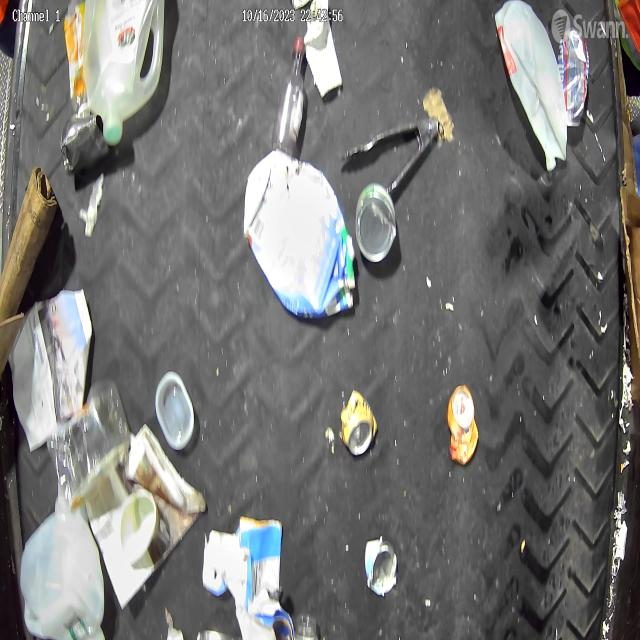can: (354, 182, 398, 264), (558, 26, 590, 127), (60, 113, 109, 175), (447, 385, 479, 466), (341, 388, 378, 458), (364, 535, 398, 596)
milk_jug: (494, 0, 568, 171), (19, 505, 106, 640), (87, 0, 168, 144)
non_white_jug: (243, 150, 355, 322)
plastic_bottle: (270, 35, 304, 156)
